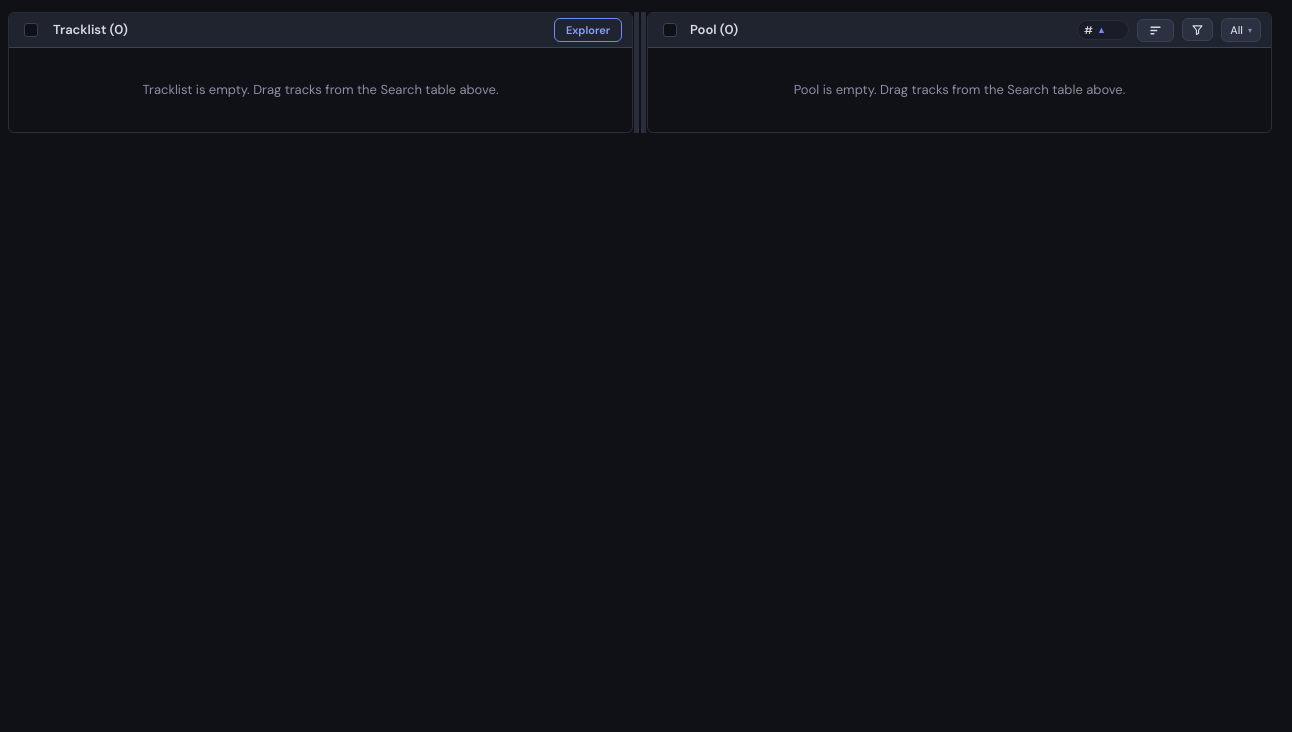
Test: SetBuilder › explorer canvas controls › exposes the add-track search and auto-layout controls
The image size is (1292, 732).
Click the button "Explorer" at coordinates (588, 30), box [554,18,622,42]
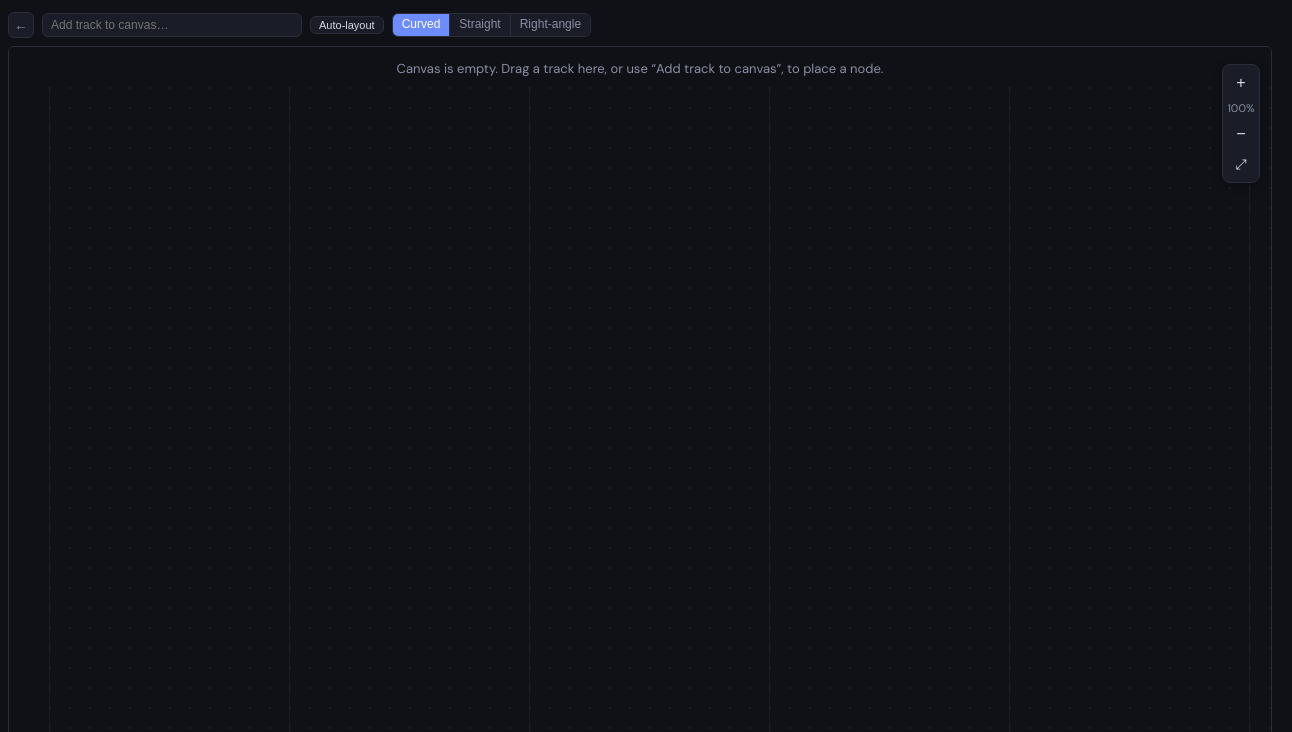
Check: the field with test id "explorer-add-search-input" is shown, box [42,13,302,37]
Check: the button with test id "explorer-auto-layout-btn" is shown, box [310,16,384,34]
Check: the element with test id "explorer-edge-style-toggle" is shown, box [392,13,591,37]
